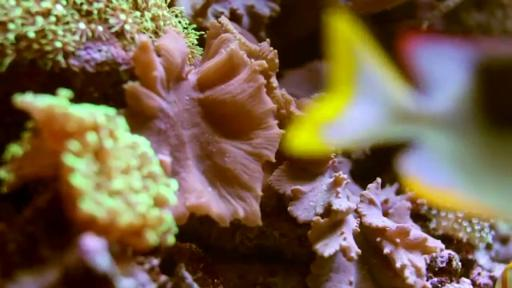Fish: (282, 8, 511, 219), (495, 264, 511, 287)
